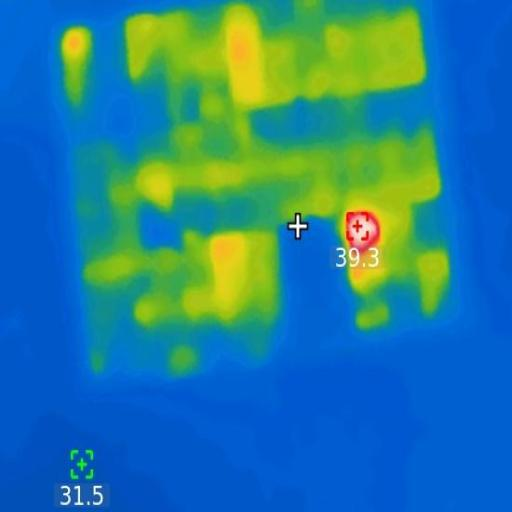hotspot: (347, 212, 379, 254)
